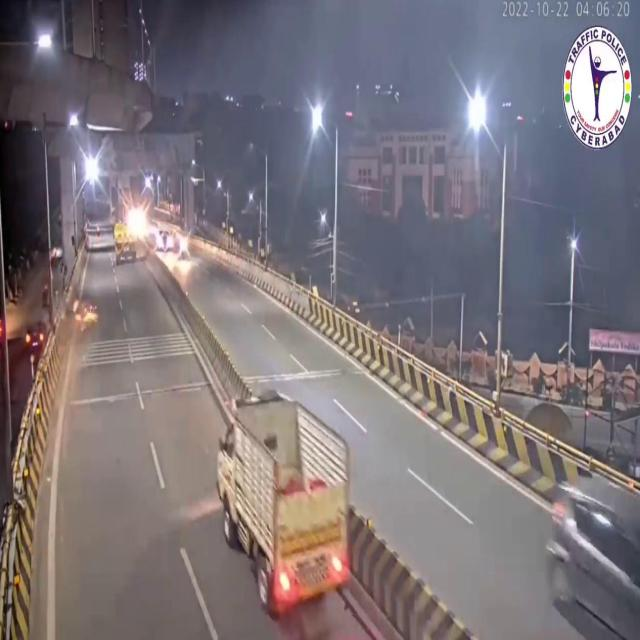accident: (69, 294, 103, 334)
